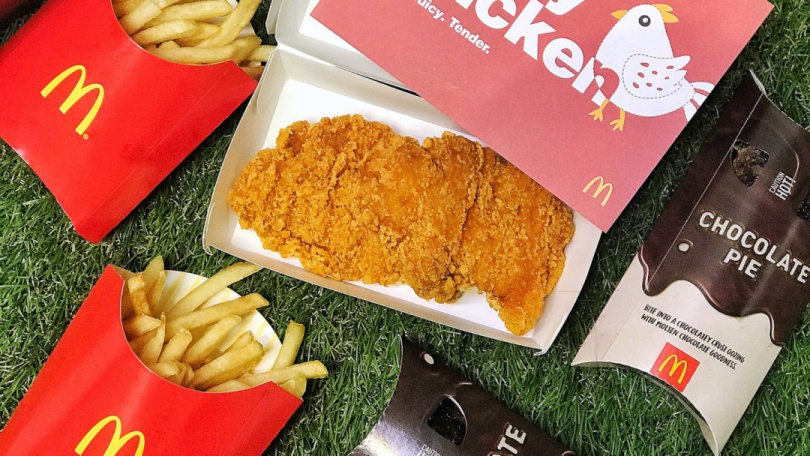mcdonalds: (36, 60, 108, 139), (655, 351, 691, 390), (581, 173, 618, 210)
